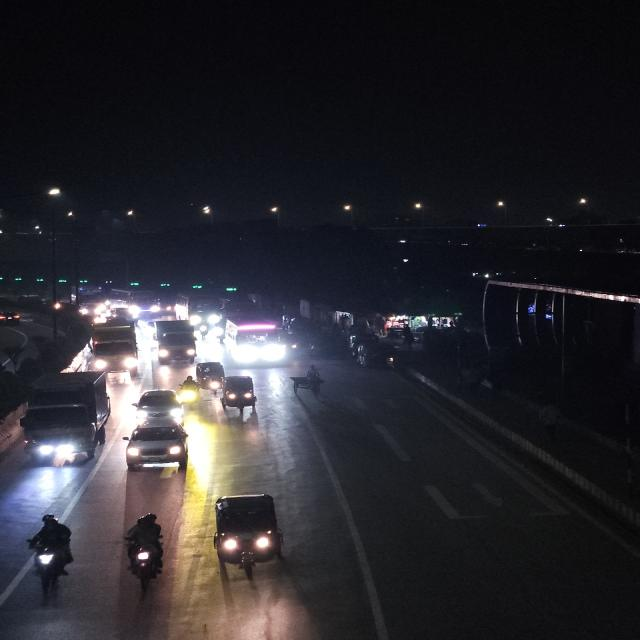bus: (218, 310, 286, 370), (108, 287, 158, 318), (179, 292, 222, 326)
car: (123, 420, 194, 474), (130, 387, 186, 421)
cng: (209, 490, 289, 585), (212, 373, 265, 415), (195, 359, 226, 397)
motorcycle: (24, 511, 81, 598), (120, 511, 169, 594)
rickshaw: (289, 364, 327, 394), (177, 374, 201, 410)
truck: (22, 369, 114, 468), (85, 319, 144, 373), (152, 319, 200, 367)
